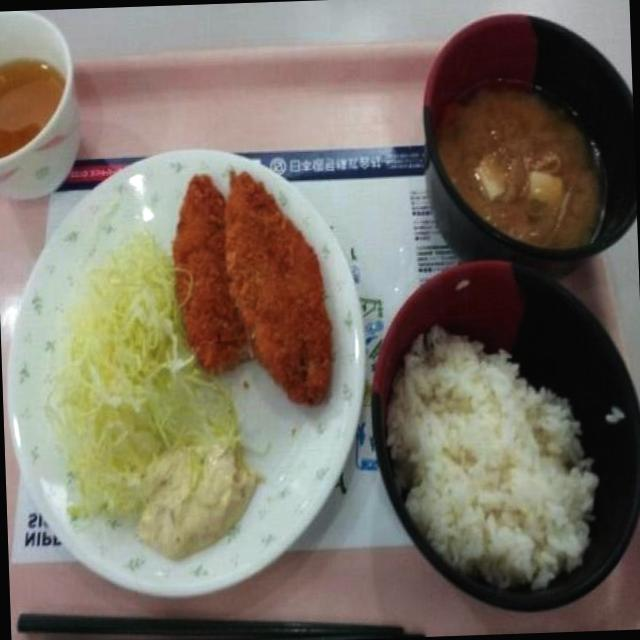Rice: (387, 321, 600, 587)
